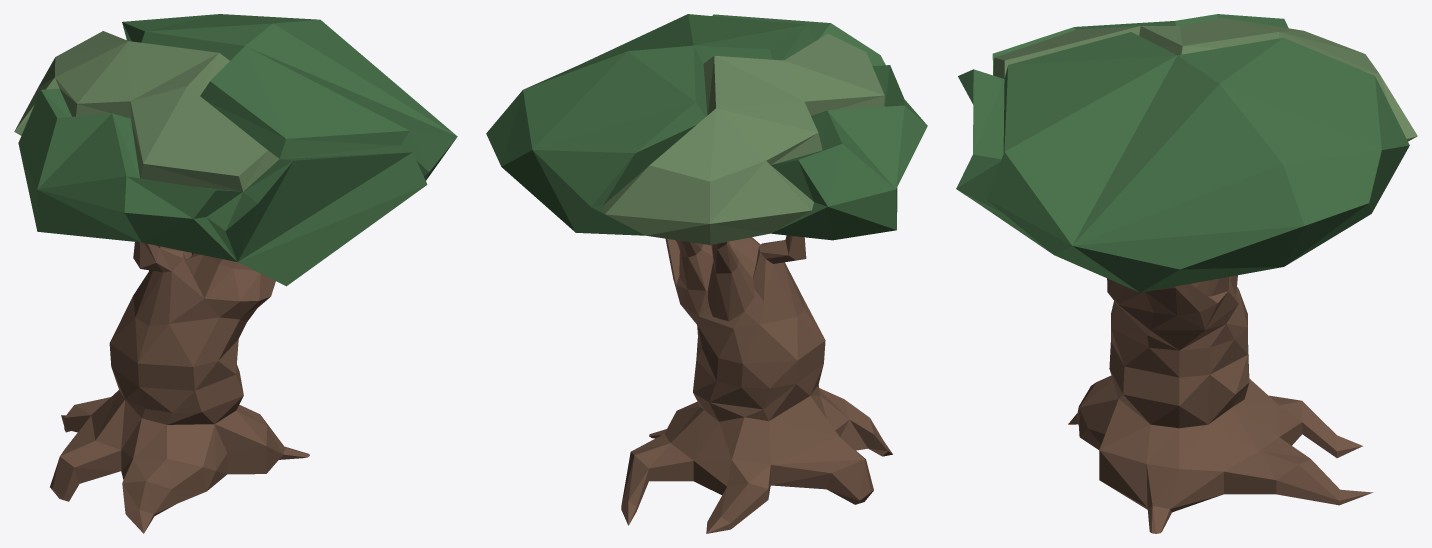
Rendered from _tree_16.fbx.
3 renders of one model, left to right at view 1: azimuth 30°, elevation 25°; view 2: azimuth 150°, elevation 25°; view 3: azimuth 270°, elevation 25°, orthographic. The views are drawn at different scales.
Parts seen in each view (by area): view 1: tree_16; view 2: tree_16; view 3: tree_16.
Part boxes in pixels (<box>): tree_16: <box>14,14,457,533</box>; tree_16: <box>486,14,927,533</box>; tree_16: <box>956,14,1417,533</box>.
Size of the model in its own units: 855 by 903 by 838.
